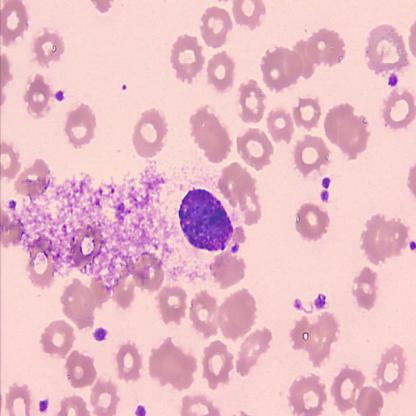Basophil: (176, 184, 235, 254)
